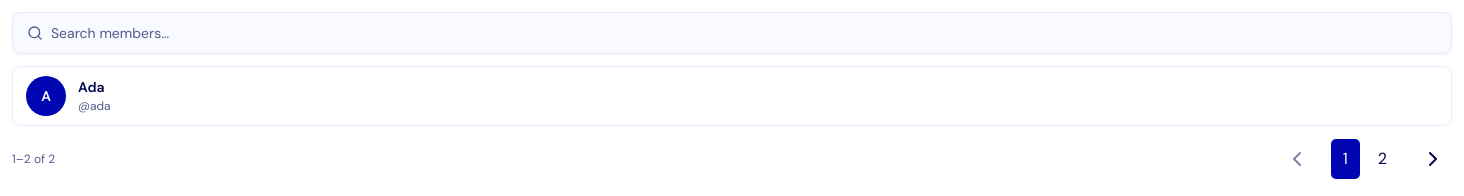
it: MemberPicker › pages through the members
Check: the text "Ada" is shown, box 78,78 -> 104,96
Click the button named "Page 2" at (1382, 158), box 1378,148 -> 1387,169
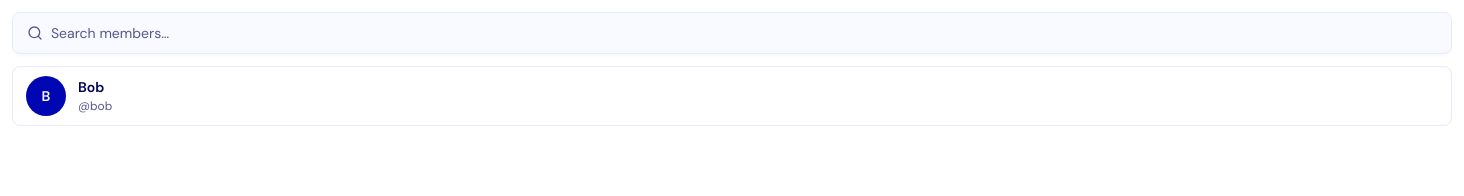
Check: the text "Bob" is shown, box 78,78 -> 104,96
